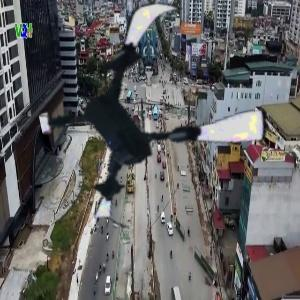drone: (42, 2, 267, 227)
